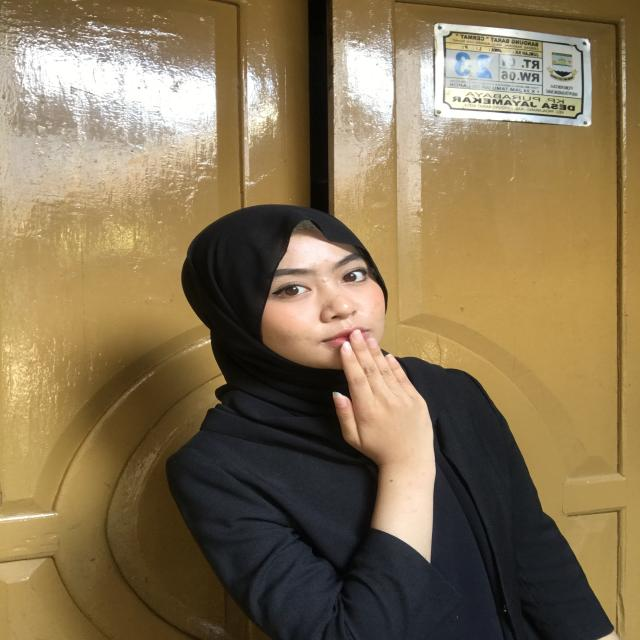ganteng: (317, 321, 458, 512)
